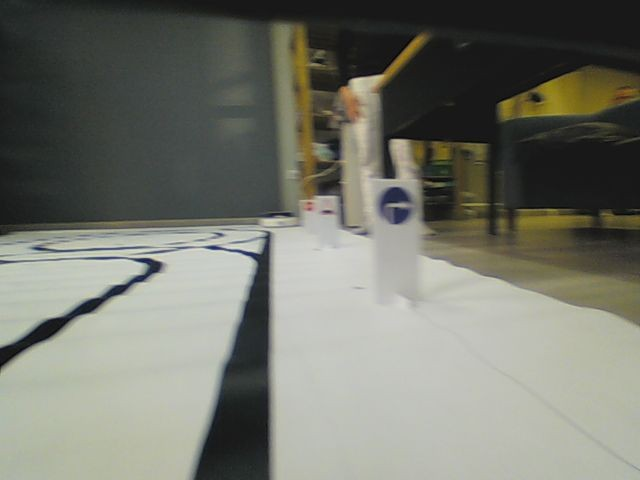Right: (378, 185, 412, 224)
